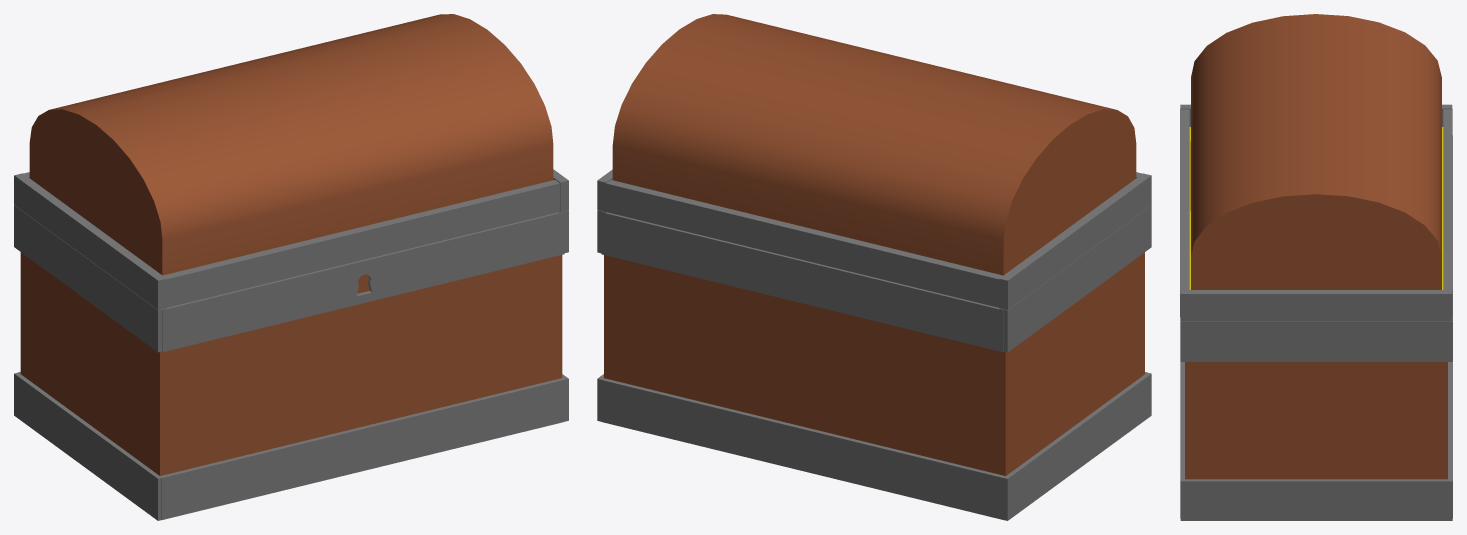
Rendered from Kufer.fbx.
The picture shows the model from 3 angles, left to right: view 1: azimuth 30°, elevation 25°; view 2: azimuth 150°, elevation 25°; view 3: azimuth 270°, elevation 25°; orthographic projection. The views are drawn at different scales.
Parts seen in each view (by area): view 1: Cube.002, Cube, Cube.006, Cube.005; view 2: Cube.002, Cube, Cube.006, Cube.005; view 3: Cube.002, Cube, Cube.006, Cube.005, Cube.001.
Part boxes in pixels (left/top/right/bottom): Cube.002: left=29, top=14, right=553, bottom=275; Cube: left=20, top=252, right=562, bottom=475; Cube.006: left=14, top=205, right=568, bottom=520; Cube.005: left=14, top=169, right=568, bottom=309; Cube.002: left=612, top=14, right=1136, bottom=275; Cube: left=604, top=252, right=1144, bottom=475; Cube.006: left=597, top=205, right=1151, bottom=520; Cube.005: left=597, top=169, right=1151, bottom=309; Cube.002: left=1190, top=14, right=1441, bottom=289; Cube: left=1185, top=362, right=1447, bottom=479; Cube.006: left=1180, top=135, right=1452, bottom=520; Cube.005: left=1180, top=104, right=1452, bottom=321; Cube.001: left=1189, top=127, right=1443, bottom=289.
Bounding box in the file's own units: 204 × 162 × 124.
